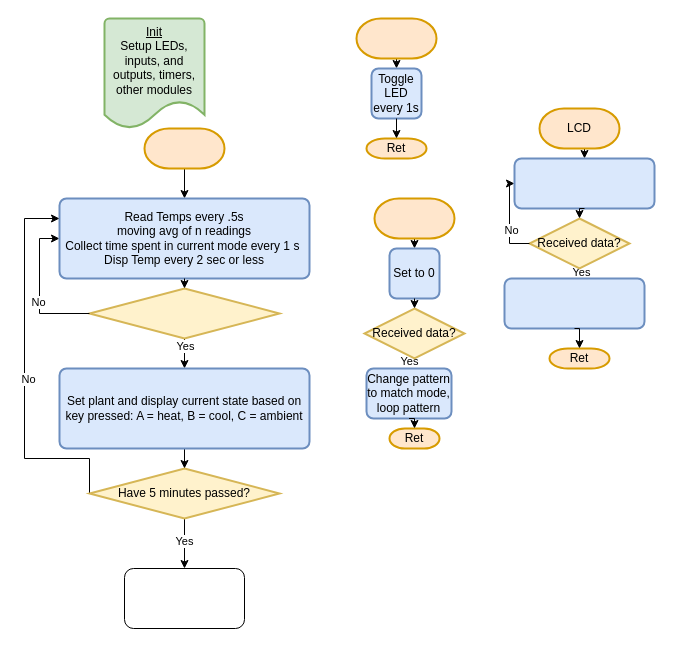
The diagram is 673 pixels wide and 646 high, and some of its shapes have lost their labels. Each missing label, with the centre of its shape:
Change mode, reset elapsed time: [574,303]
Display mode, elapsed time, temps: [584,183]
Has a important key been pressed?: [184,313]
HeartbeatLED: [396,38]
LED Bar: [414,218]
Set mode to "off": [184,598]
System: [184,148]
